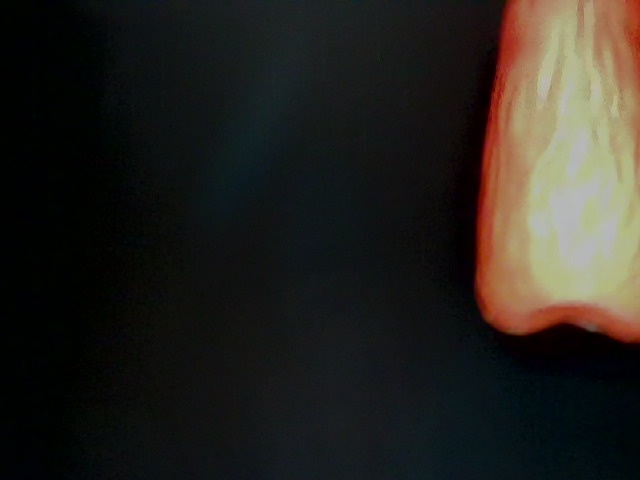QTLJ: (91, 1, 357, 101)
